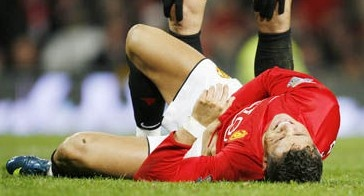falling: (5, 7, 349, 186)
